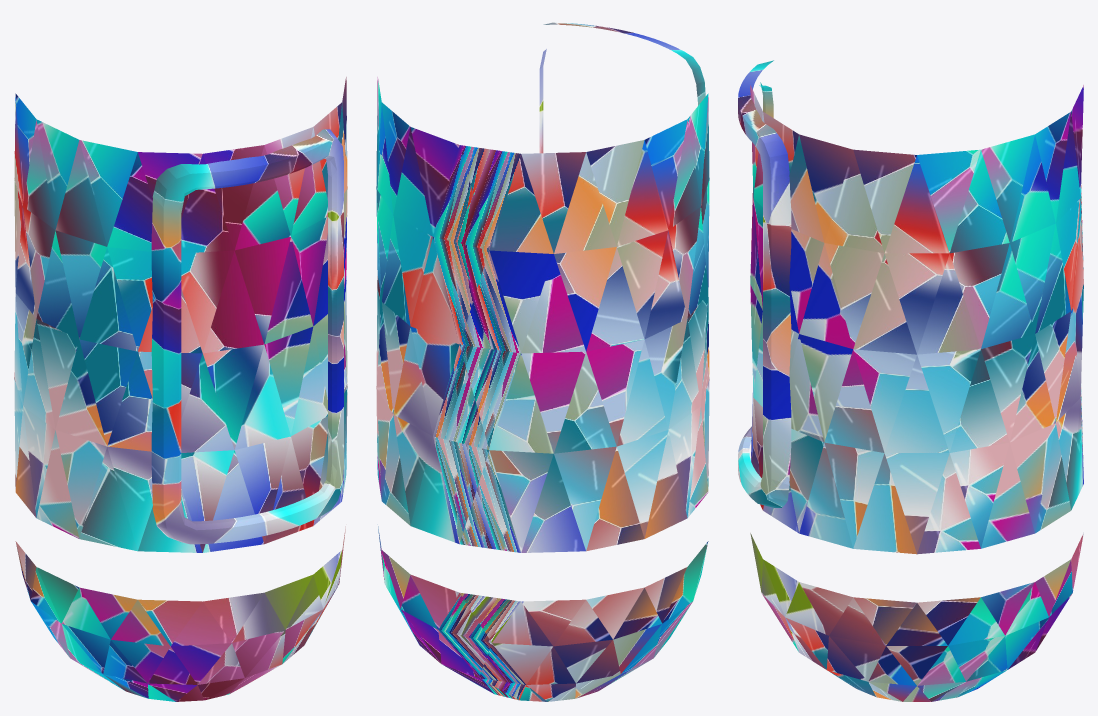
Rendered from capsule_diamond_shell.glb.
The picture shows the model from 3 angles, left to right: view 1: azimuth 30°, elevation 25°; view 2: azimuth 150°, elevation 25°; view 3: azimuth 270°, elevation 25°; orthographic projection.
Visible parts, largest first — view 1: Body; view 2: Body; view 3: Body.
Part boxes in pixels (box(x1,y1,x2,y2)): Body: box(14, 77, 347, 701); Body: box(376, 22, 709, 701); Body: box(738, 60, 1083, 701).
Bounding box in the file's own units: 0.15 × 0.299 × 0.1555.
1 material, 1 textured.
